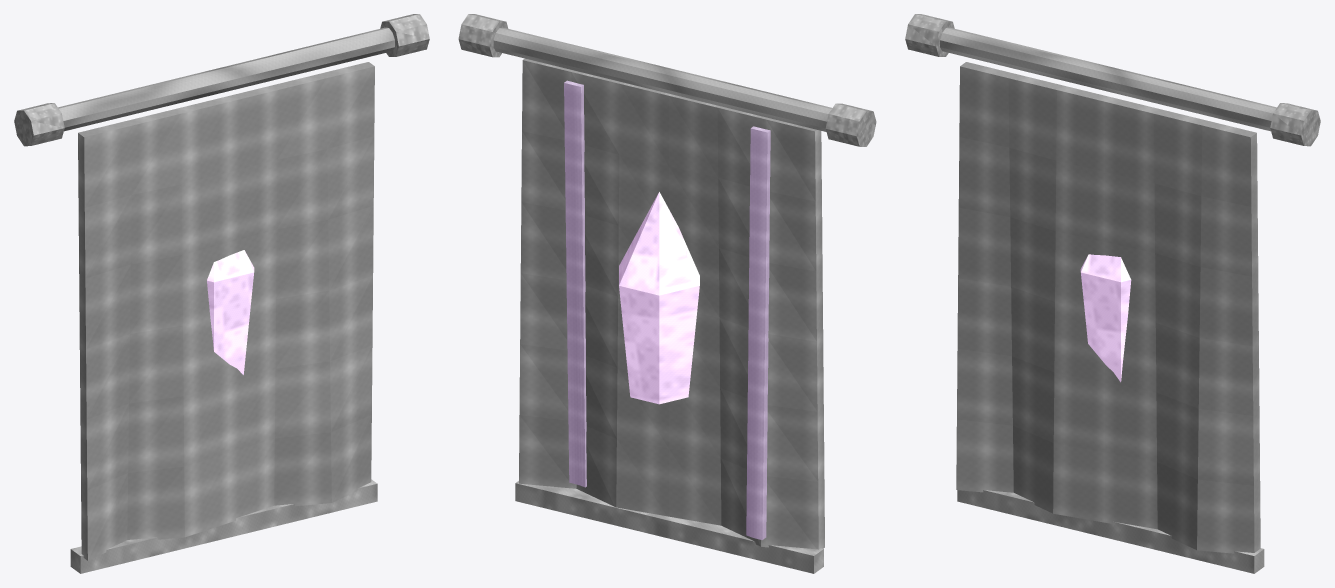
Rendered from crystal-banner-standard-seidr.glb.
3 views of the same model, side by side, from view 1: azimuth 30°, elevation 25°; view 2: azimuth 150°, elevation 25°; view 3: azimuth 330°, elevation 25° (orthographic).
Parts seen in each view (by area): view 1: field, top-rod, lower-rail, crystal-crest, left-cap, right-cap; view 2: field, crystal-crest, top-rod, left-fold, right-fold, lower-rail, left-cap, right-cap; view 3: field, top-rod, lower-rail, crystal-crest, right-cap, left-cap.
Part boxes in pixels (x1,y1,x2,y2): field: (78, 62, 374, 560); top-rod: (58, 27, 394, 131); lower-rail: (70, 479, 377, 573); crystal-crest: (207, 250, 254, 374); left-cap: (14, 103, 64, 146); right-cap: (380, 14, 429, 56); field: (519, 58, 824, 549); crystal-crest: (619, 192, 699, 404); top-rod: (493, 27, 832, 131); left-fold: (746, 126, 770, 539); right-fold: (564, 80, 586, 487); lower-rail: (515, 481, 823, 573); left-cap: (825, 103, 876, 146); right-cap: (458, 14, 508, 57); field: (956, 62, 1260, 553); top-rod: (940, 27, 1276, 131); lower-rail: (957, 490, 1264, 573); crystal-crest: (1080, 254, 1131, 382); right-cap: (1270, 103, 1320, 146); left-cap: (905, 14, 954, 56).
Size of the model in its own units: 1.28 by 1.45 by 0.2301.
5 materials, 5 textured.
